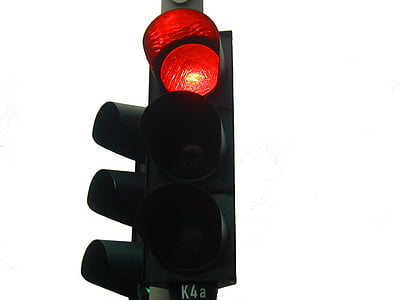trafficlight_red: (141, 8, 235, 285)
